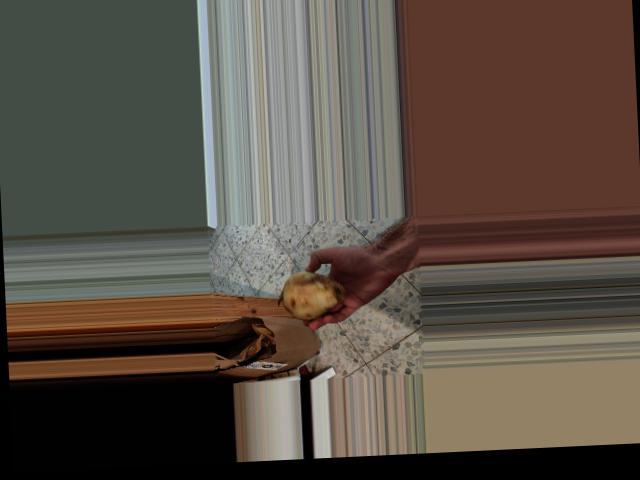onion: (278, 266, 349, 324)
